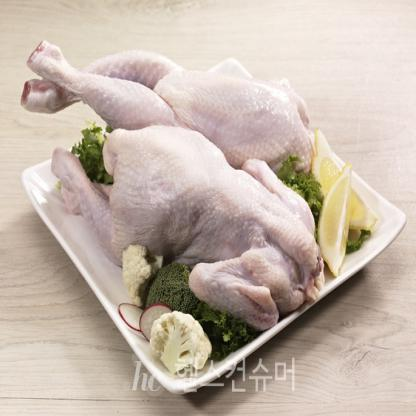chicken: (25, 36, 324, 312)
